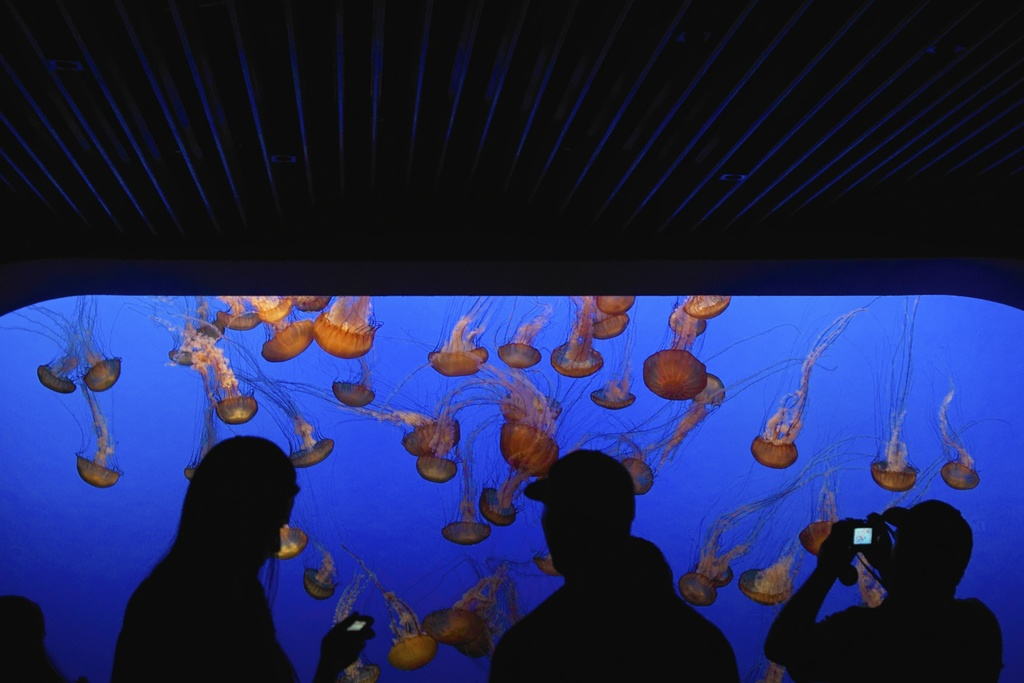Jellyfish: (0, 289, 981, 682), (306, 292, 384, 358)
